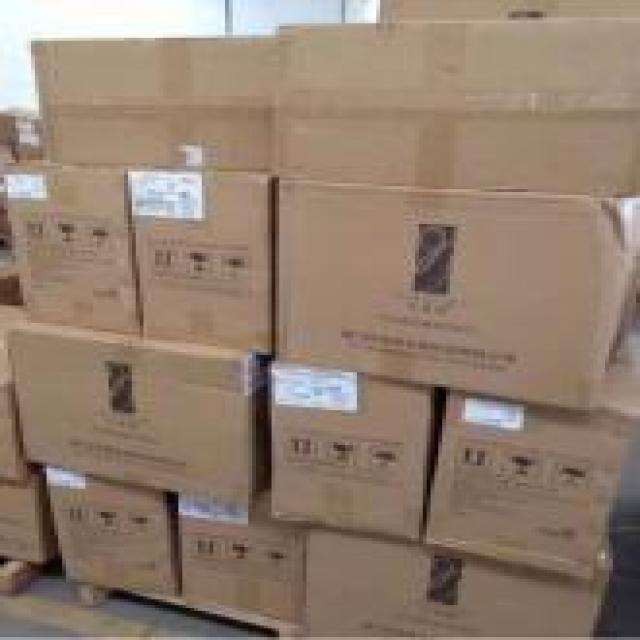box: (267, 168, 640, 410), (267, 14, 640, 194), (4, 304, 271, 502), (288, 520, 633, 640), (424, 377, 624, 581), (27, 32, 279, 169), (258, 351, 430, 544), (122, 160, 285, 358), (0, 163, 150, 342), (34, 458, 186, 596), (176, 478, 312, 628)
